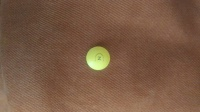Nurofen: (85, 45, 111, 71)
